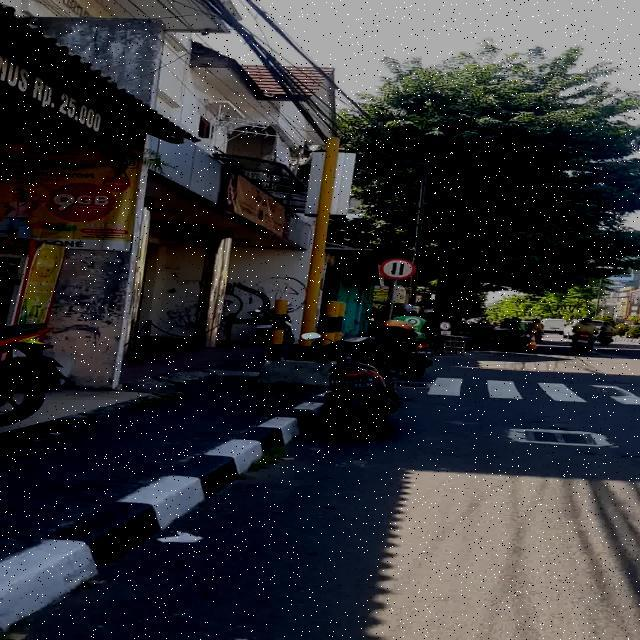Larangan Muatan - 10 ton: (379, 258, 416, 279)
